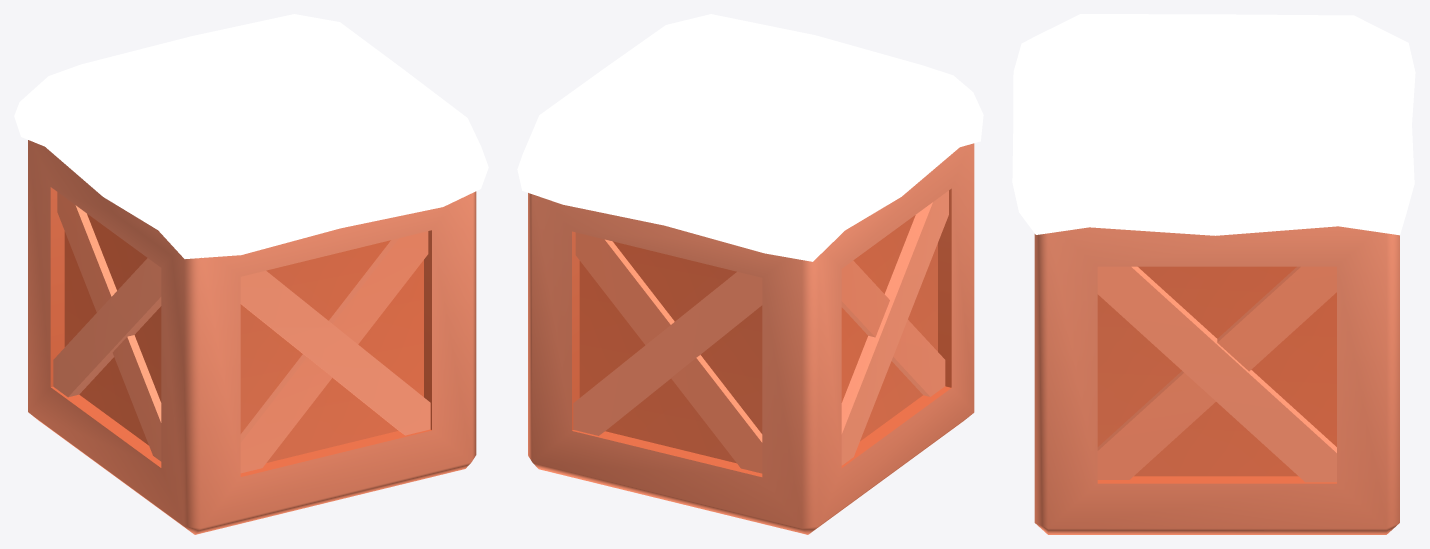
3 views of the same model, side by side, from view 1: azimuth 30°, elevation 25°; view 2: azimuth 150°, elevation 25°; view 3: azimuth 270°, elevation 25° (orthographic). The views are drawn at different scales.
Parts seen in each view (by area): view 1: box_002; view 2: box_002; view 3: box_002.
Boxes of the visible parts, box(x1,y1,x2,y2) form: box_002: box(14, 14, 488, 534); box_002: box(517, 14, 983, 534); box_002: box(1012, 14, 1415, 534).
Size of the model in its own units: 1.9 by 2.14 by 1.93.
2 materials, 2 textured.
